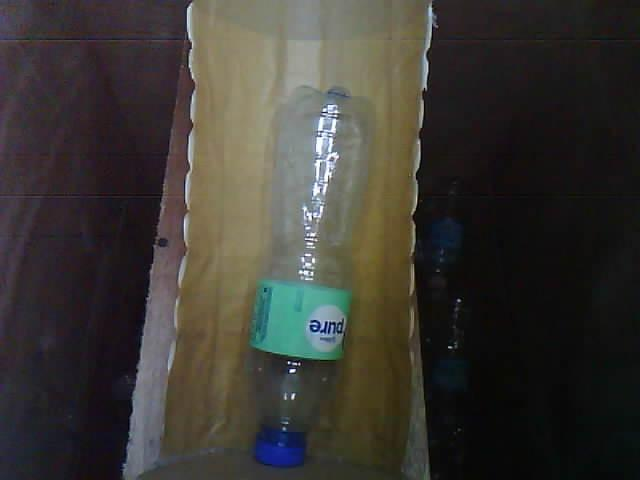small_bottle: (237, 69, 381, 480)
